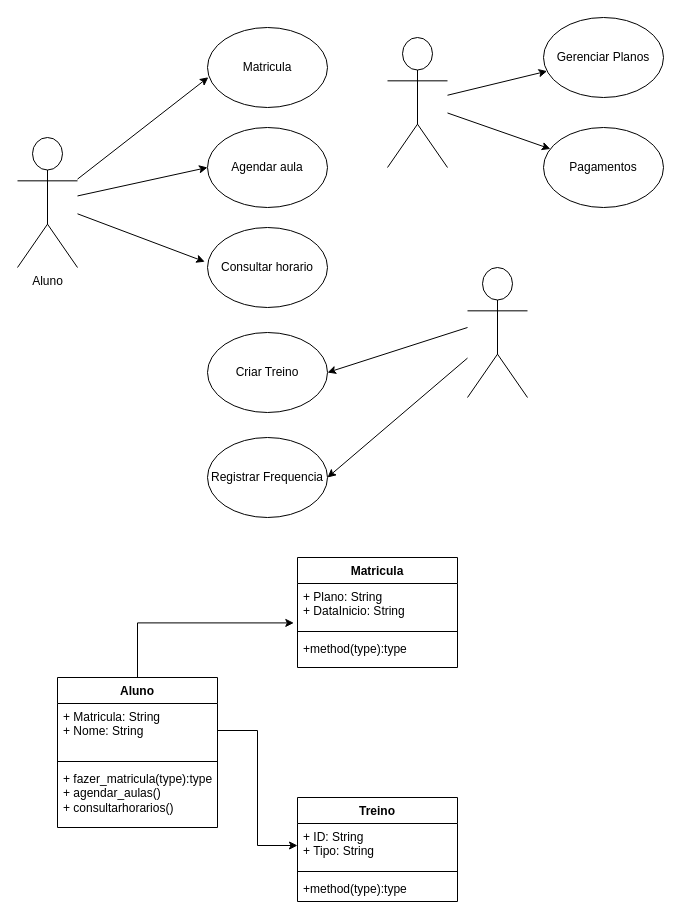
Image size: 681x922. Some labels were removed from this diagram. Here are the shapes that lost their labels. From the top down, the centre of each, then its label:
point 417,102: Gerente
point 497,332: Instrutor
